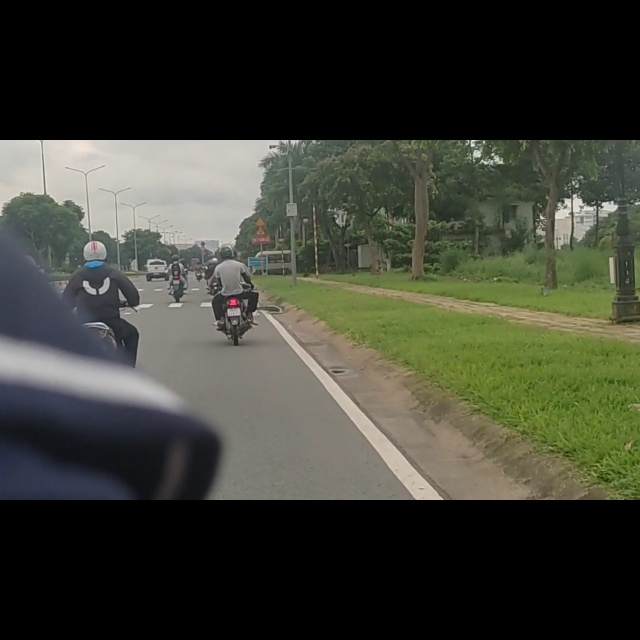bien_nguy_hiem: (256, 154, 267, 169), (255, 136, 265, 152), (201, 179, 206, 190)
